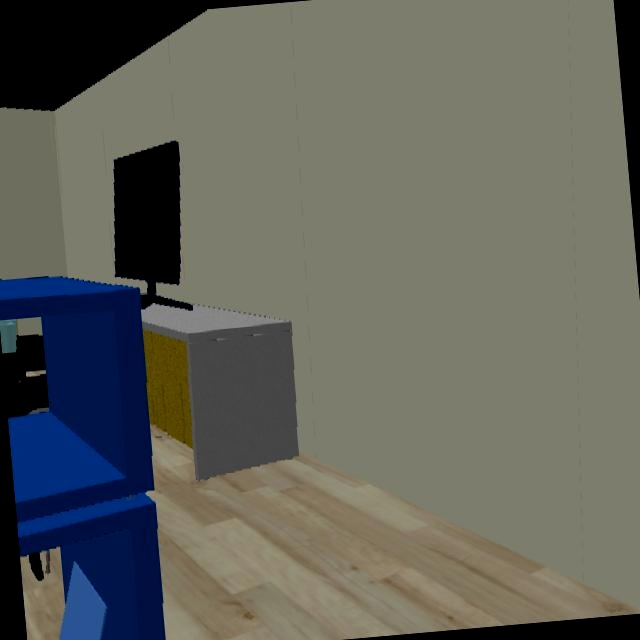monitor: (112, 140, 181, 293)
